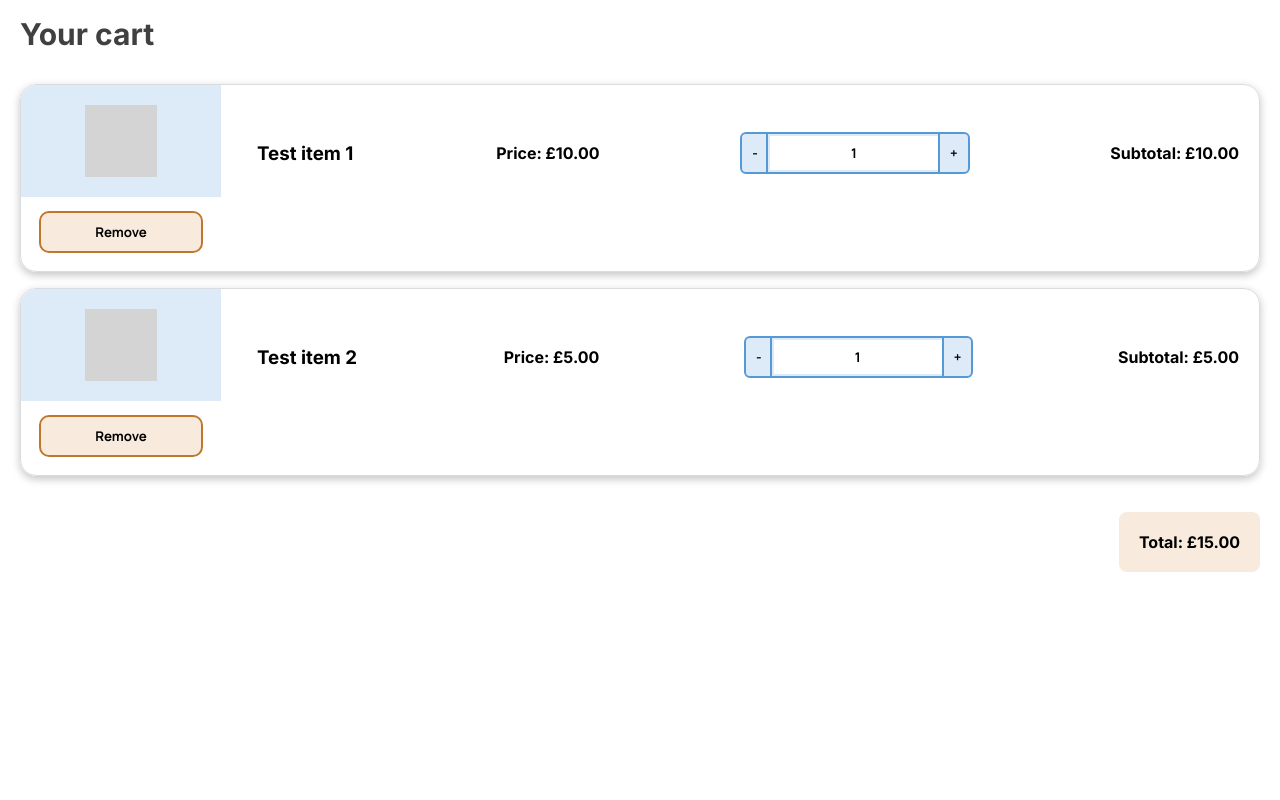
Cart component › increase quantity button clicks and renders updated total
This screenshot has width=1280, height=800.
expect the text "Total: £15.00" is shown: met, box [1139,532,1240,552]
Click the button named "increase quantity, test item 1" at (954, 153), box [940,134,968,172]
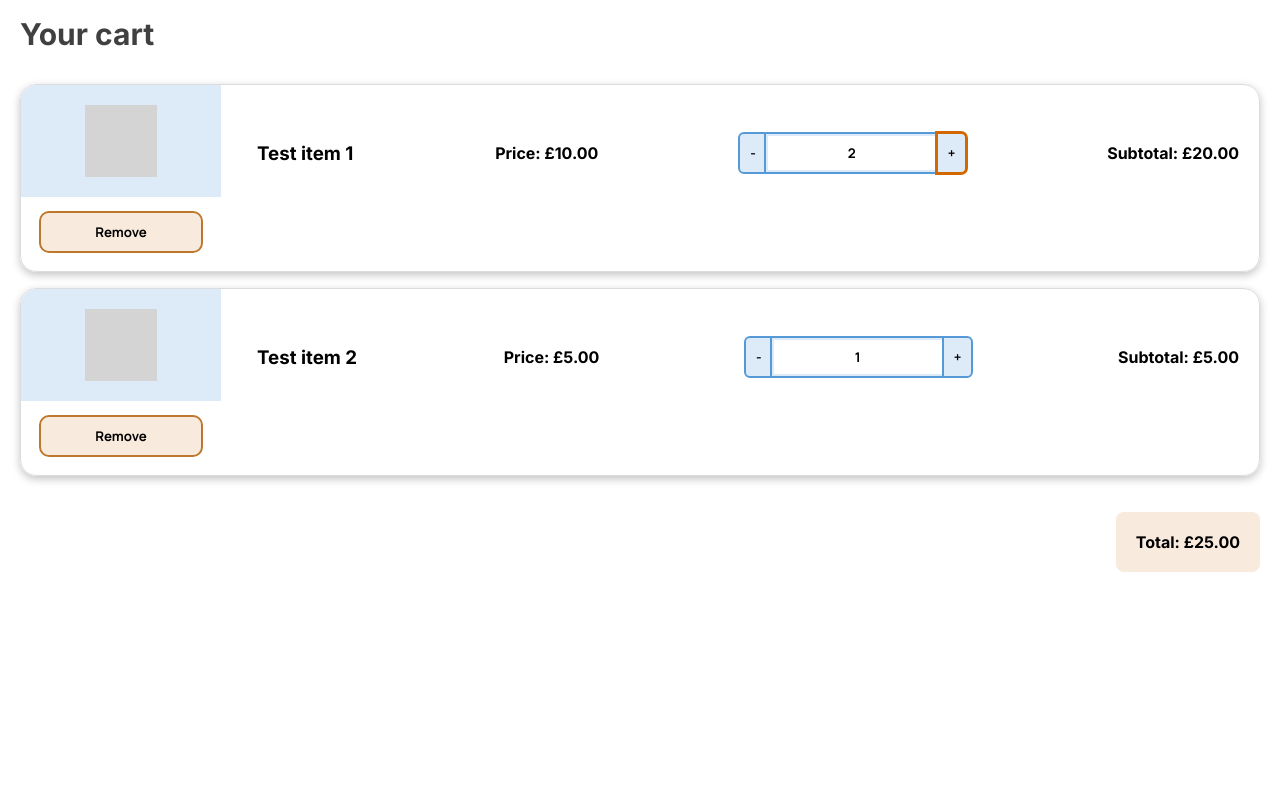
expect the text "Total: £25.00" is shown: met, box [1136,532,1240,552]
